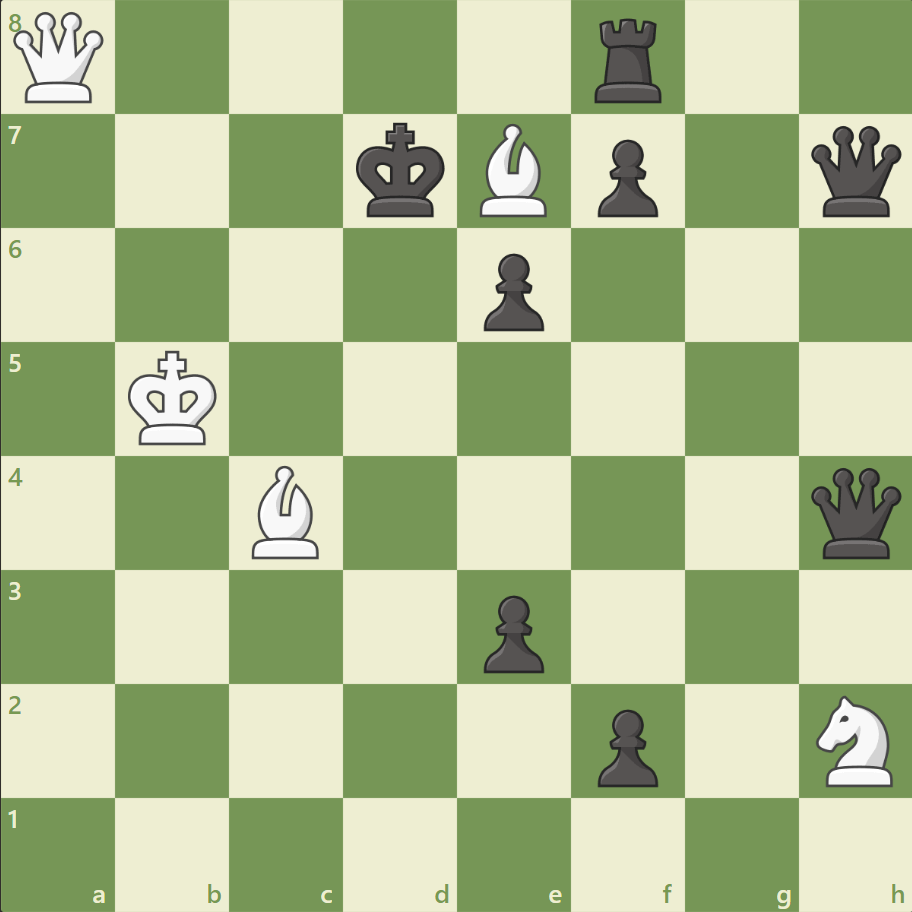B: (244, 460, 328, 563), (471, 120, 555, 222)
K: (124, 344, 224, 452)
N: (806, 688, 903, 791)
Q: (10, 9, 109, 108)
k: (351, 117, 451, 225)
p: (474, 246, 549, 337), (474, 586, 549, 677), (588, 132, 662, 223), (588, 700, 662, 791)
q: (805, 122, 904, 222), (805, 463, 904, 562)
r: (587, 12, 670, 109)
